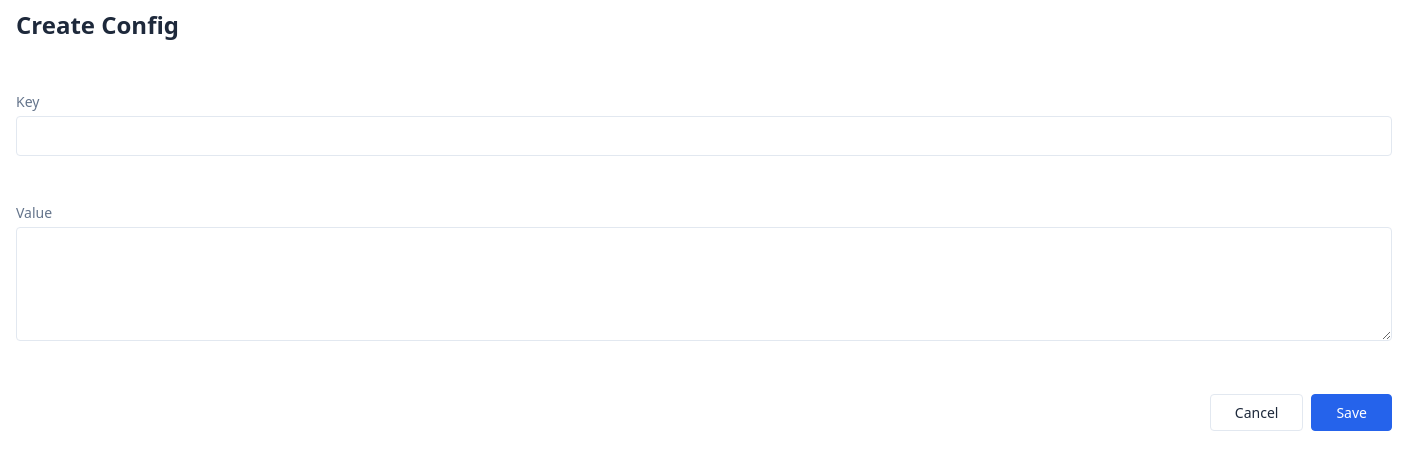
Test: ConfigForm › create mode › shows value-required error when value is empty
In the field labelled "Key": (704, 136) [16,116,1392,156], type "test_key"
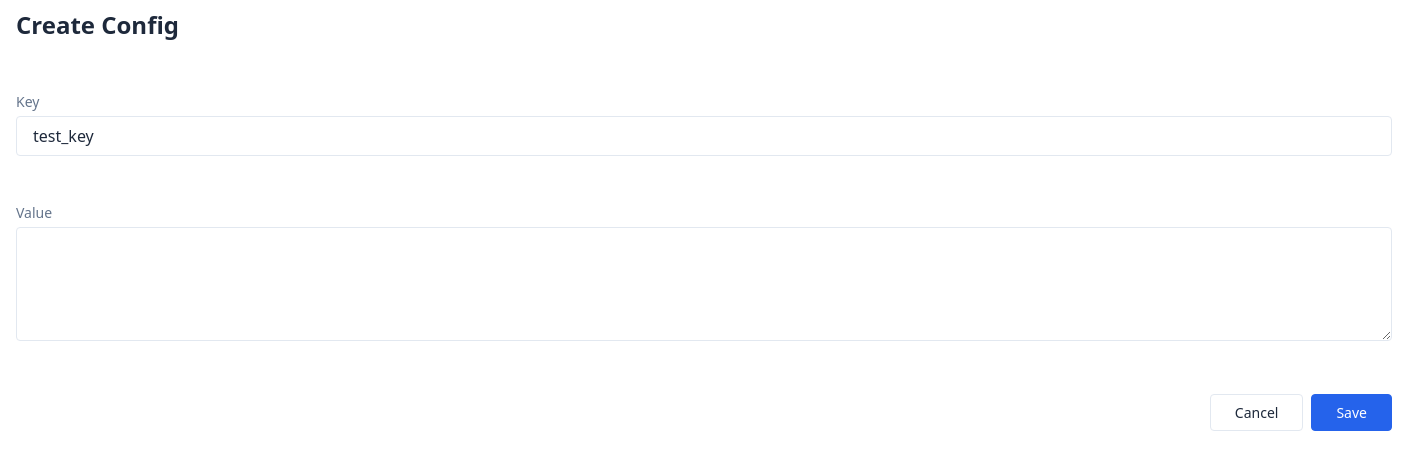
Click the button "Save": click(1352, 412) [1311,394,1392,431]
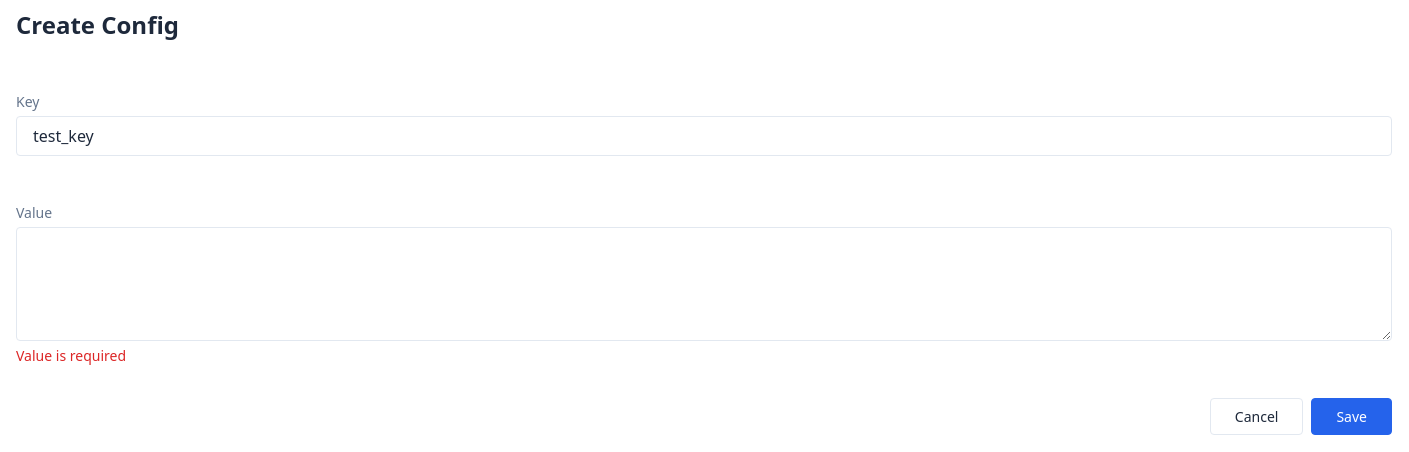
Now the text "Value is required" is shown, box [16,346,126,364]
